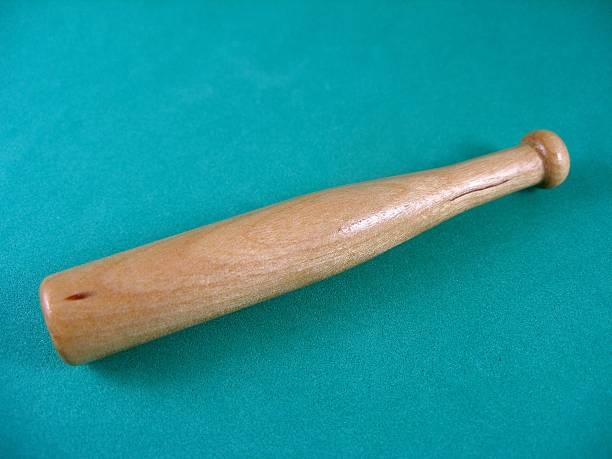bita: (48, 139, 560, 365)
